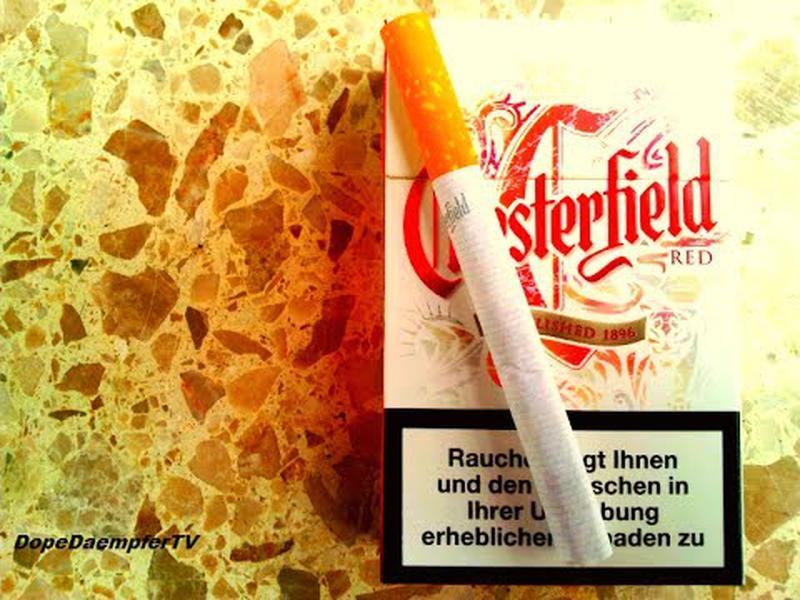chesterfield_red: (387, 19, 744, 590)
